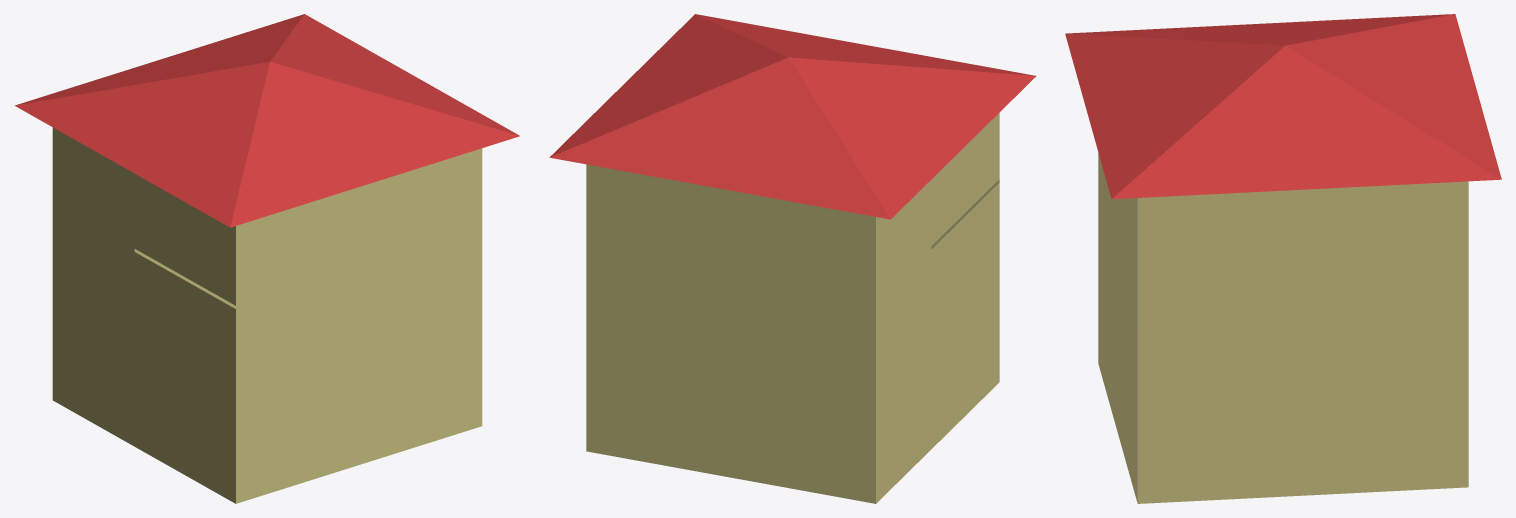
3 renders of one model, left to right at view 1: azimuth 30°, elevation 25°; view 2: azimuth 150°, elevation 25°; view 3: azimuth 270°, elevation 25°, orthographic. The views are drawn at different scales.
Size of the model in its own units: 10.99 by 10.95 by 10.56.
